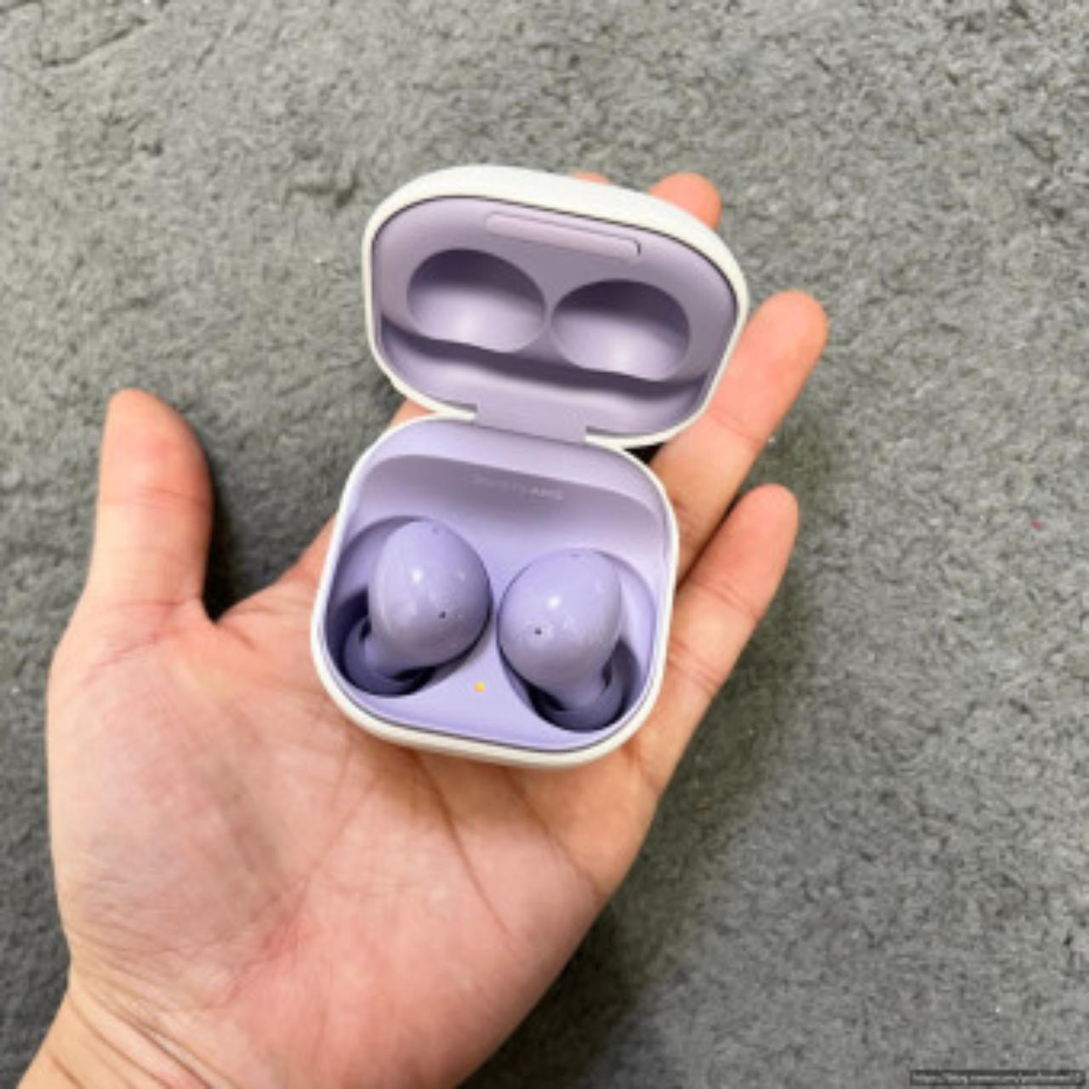Buds: (309, 158, 755, 788)
Buds_Units: (331, 507, 496, 708), (490, 545, 648, 735)
